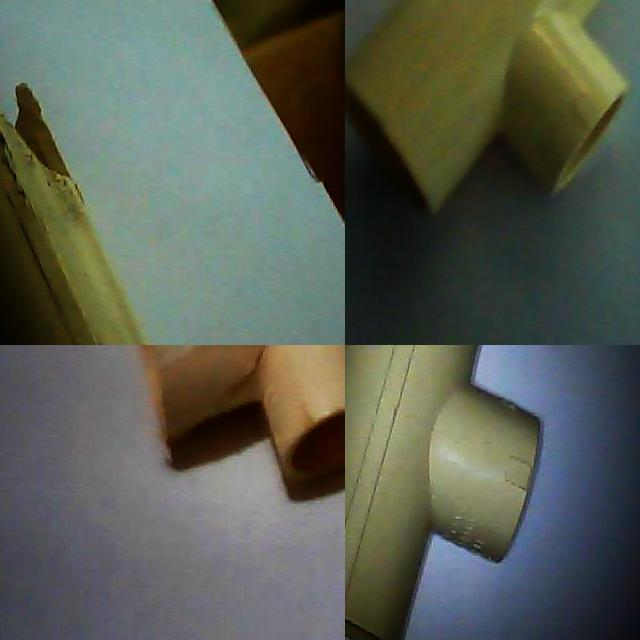Defective: (0, 71, 72, 189), (168, 345, 271, 417)
T Joint: (345, 0, 631, 219), (345, 345, 544, 640), (0, 85, 149, 345), (146, 345, 345, 472)
